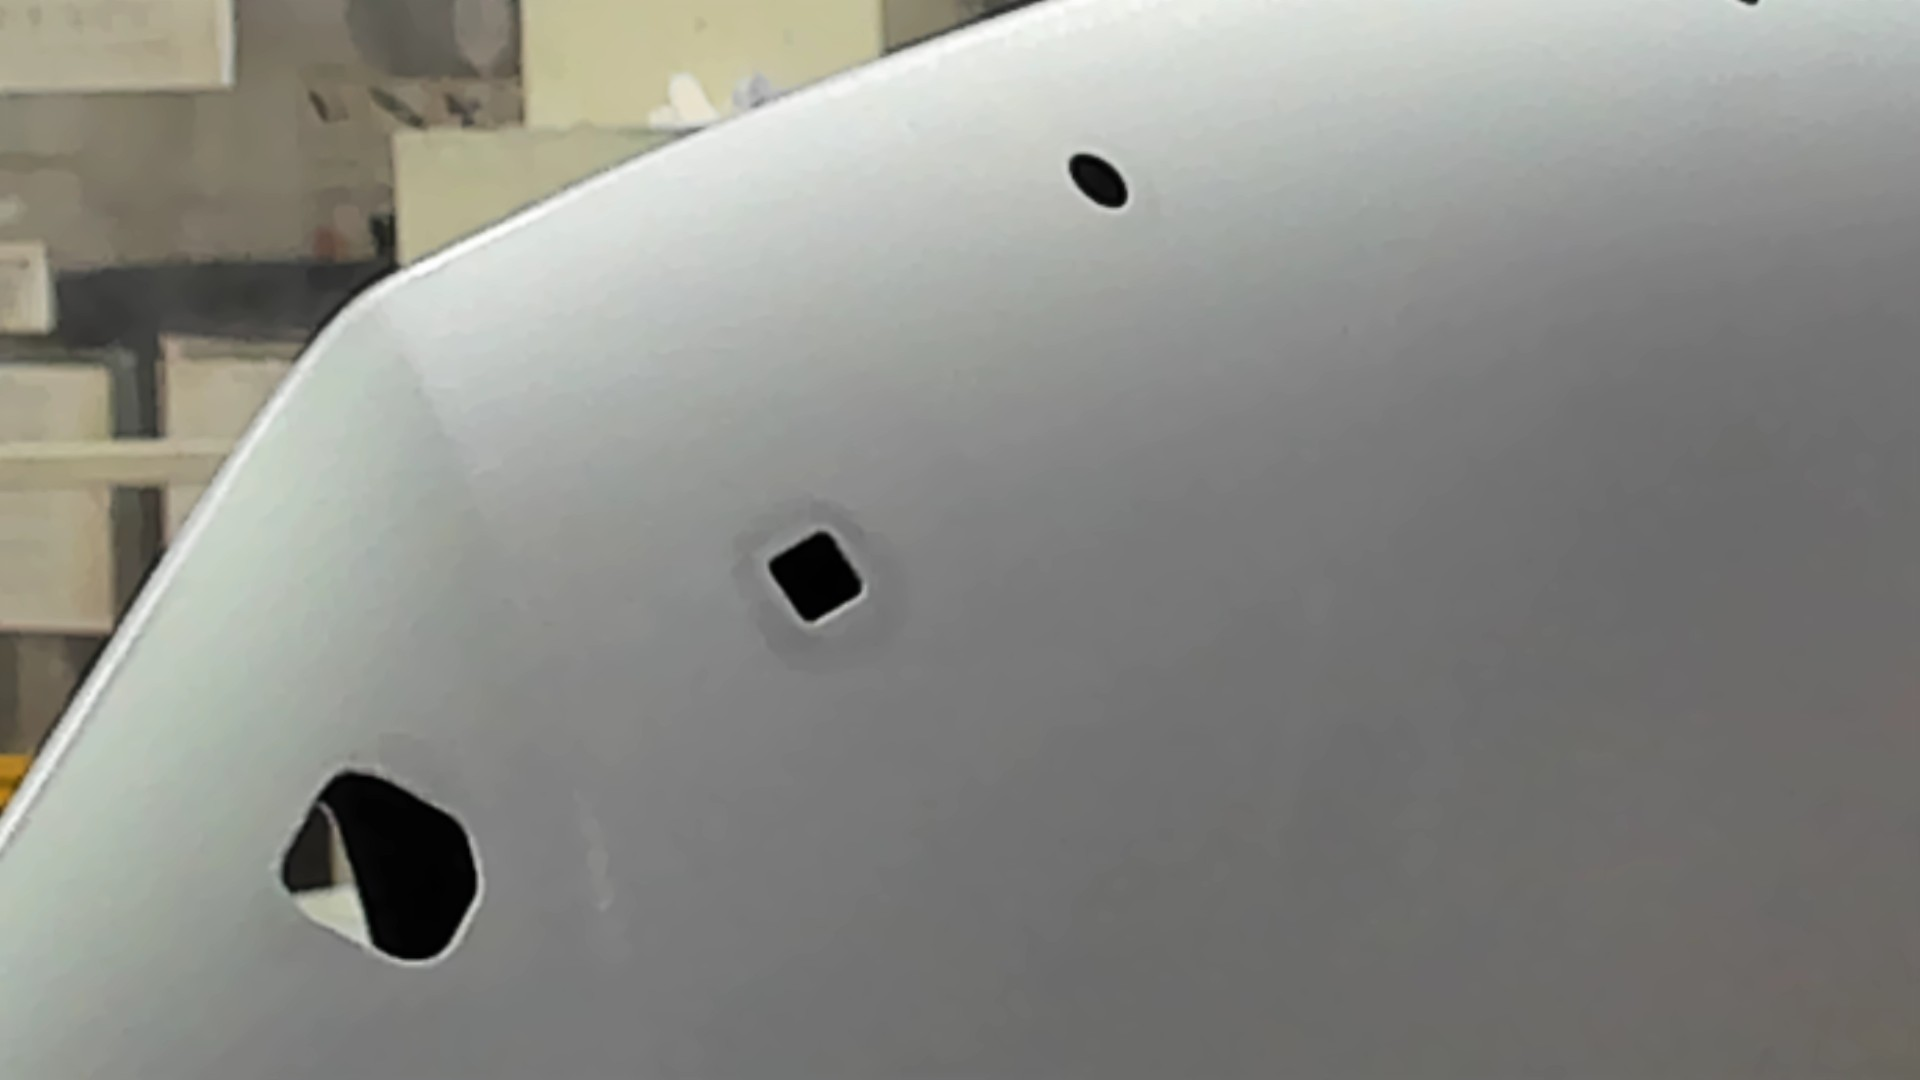chico: (1065, 150, 1131, 212)
grande: (272, 766, 489, 971)
mediano: (761, 527, 866, 628)
